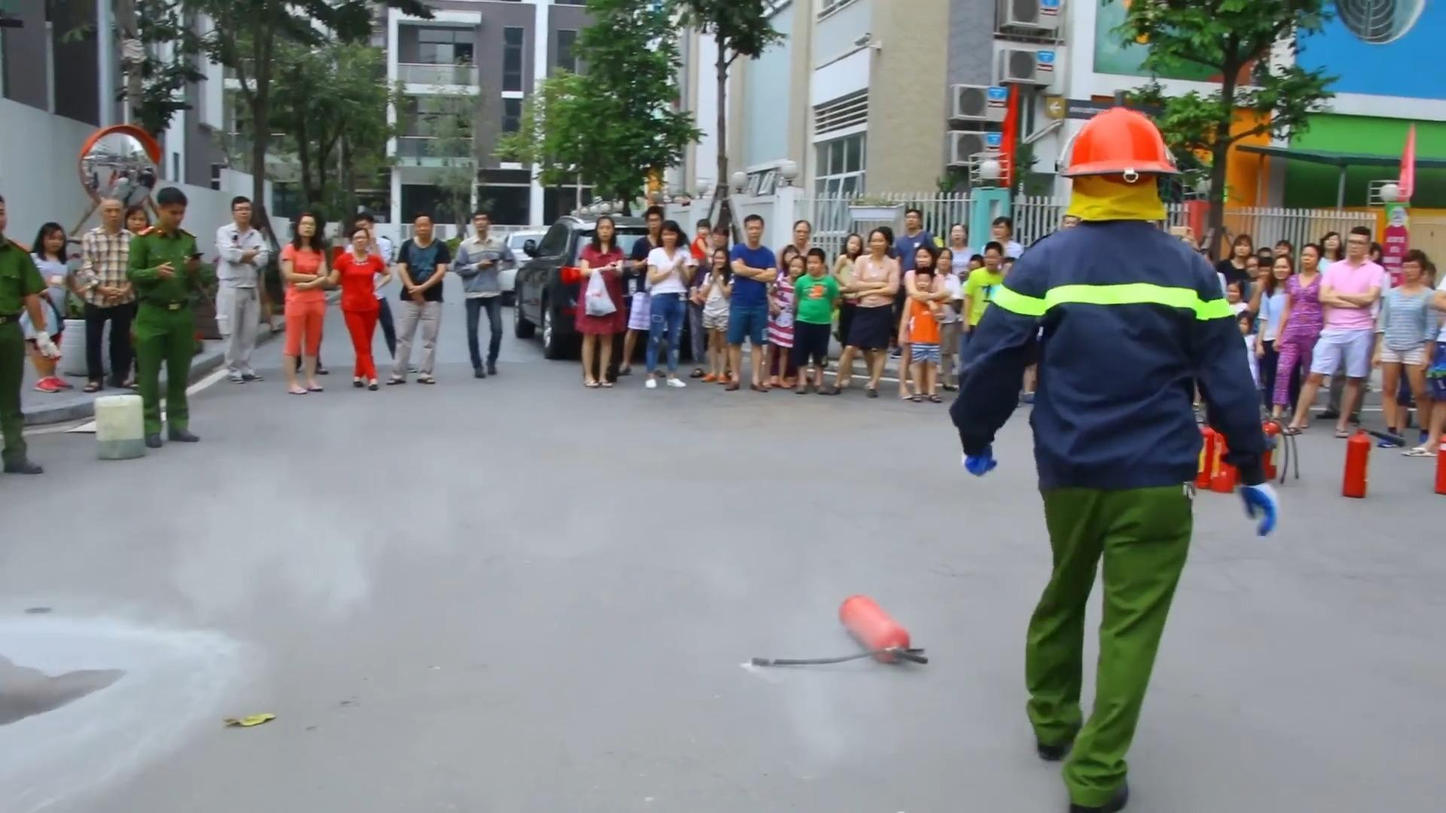FireExtinguisher: (810, 587, 936, 680), (1255, 418, 1315, 487), (1338, 420, 1384, 509), (1190, 420, 1241, 500), (1423, 429, 1446, 502)
